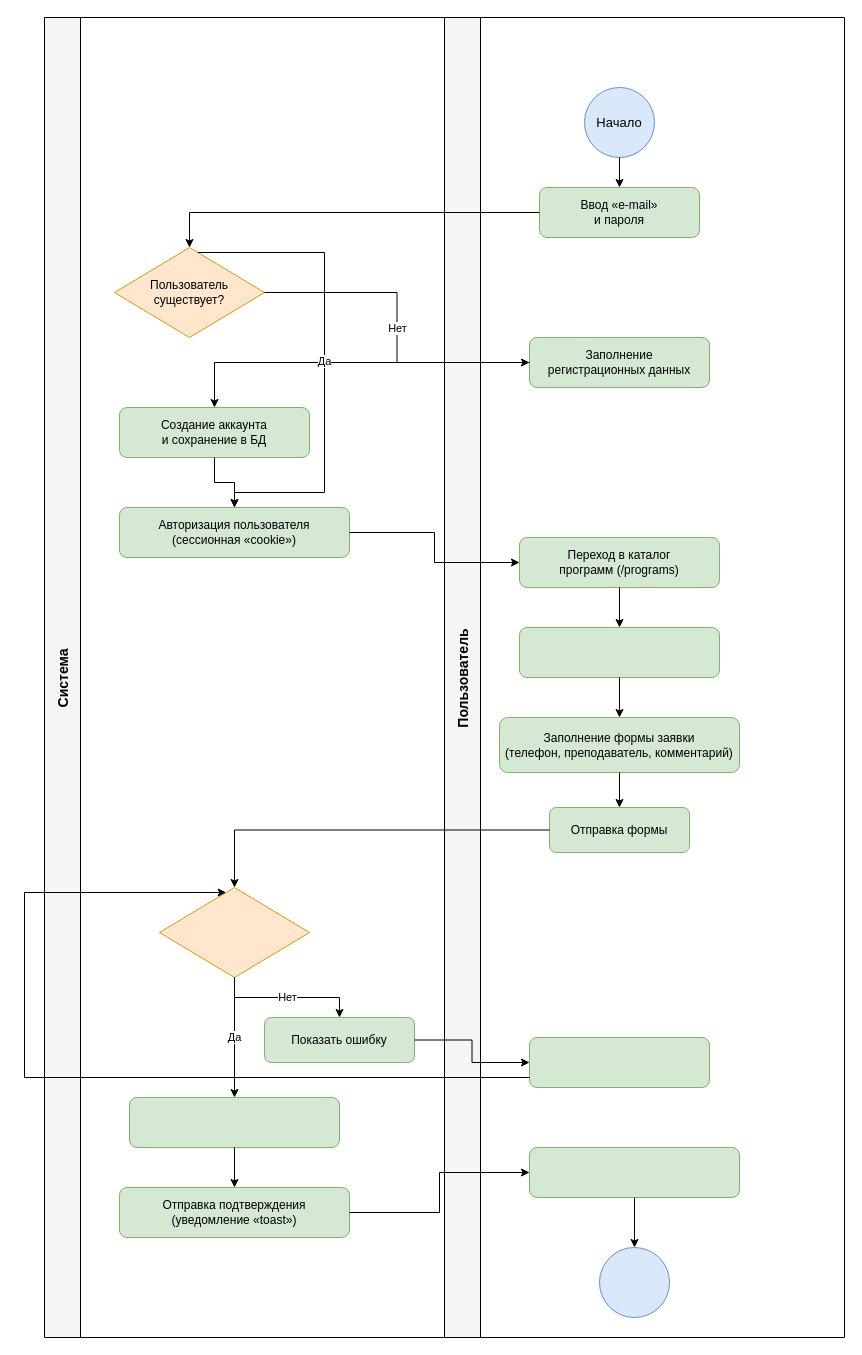
Some shapes in this 862 by 1355 pixel diagram are drawn without their labels. The centre of each missing label's shape, as x and y in pixels:
Все поля заполнены верно?: the point at 234,932
Выбор направления и программы обучения: the point at 619,652
Исправить форму и отправить снова: the point at 619,1062
Конец: the point at 634,1282
Получение уведомления об успешной заявке: the point at 634,1172
Создание заявки в БД (enrollment_requests): the point at 234,1122
